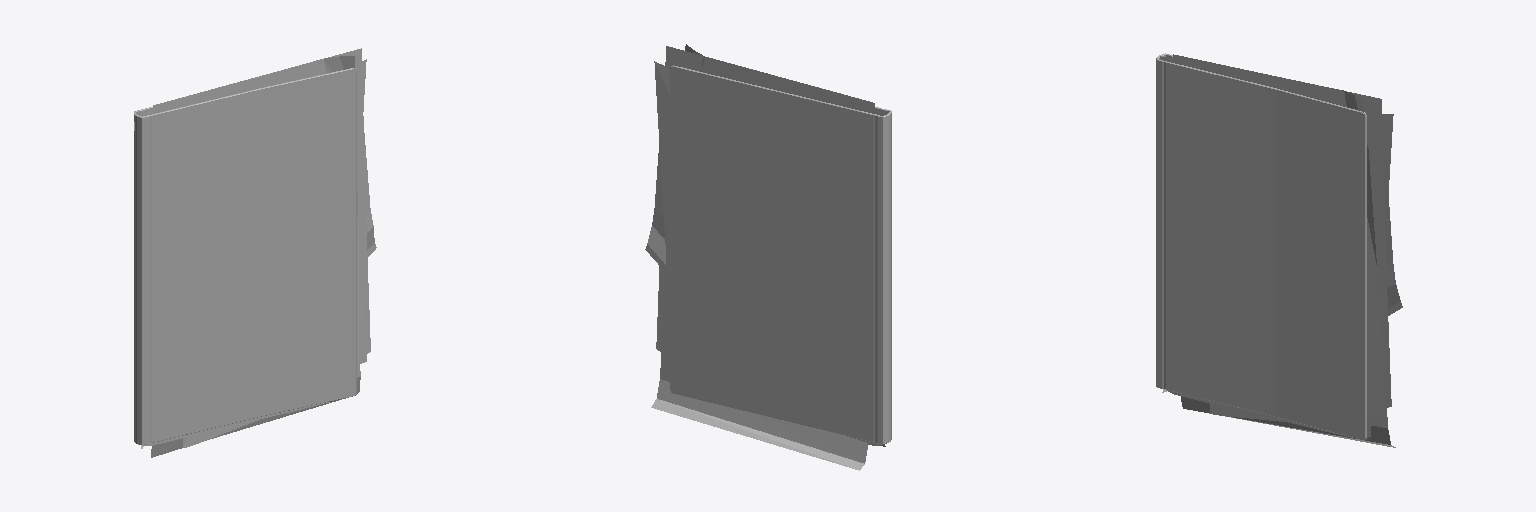
Rendered from book.obj.
3 renders of one model, left to right at view 1: azimuth 30°, elevation 25°; view 2: azimuth 150°, elevation 25°; view 3: azimuth 330°, elevation 25°, orthographic.
Visible parts, largest first — view 1: folder; view 2: folder; view 3: folder.
Boxes of the visible parts, x1=… form: folder: x1=134, y1=48, x2=376, y2=457; folder: x1=645, y1=44, x2=891, y2=470; folder: x1=1156, y1=53, x2=1402, y2=447.
Size of the model in its own units: 23.32 by 33.68 by 2.79.